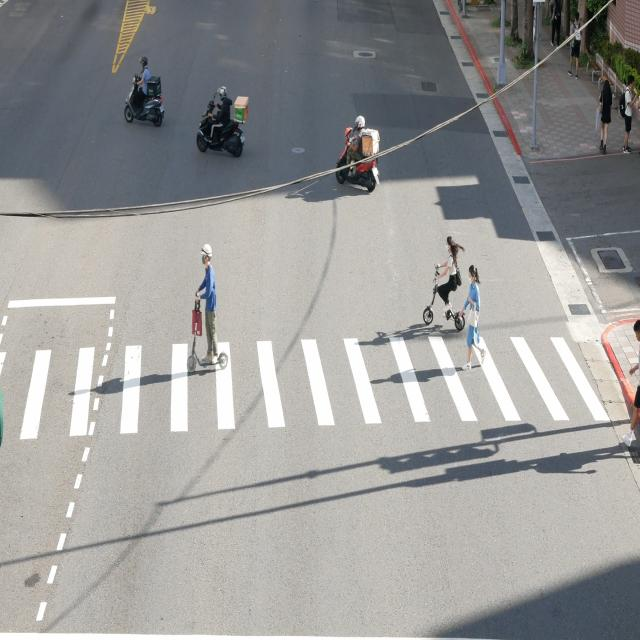pedestrian: (196, 244, 218, 364), (434, 236, 464, 318), (462, 265, 480, 368), (623, 384, 640, 446), (629, 351, 640, 375), (634, 320, 640, 342)
